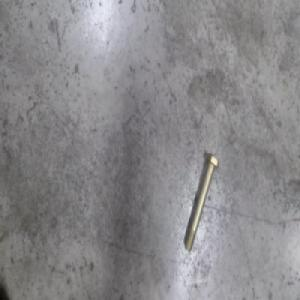Bolt: (183, 154, 219, 253)
